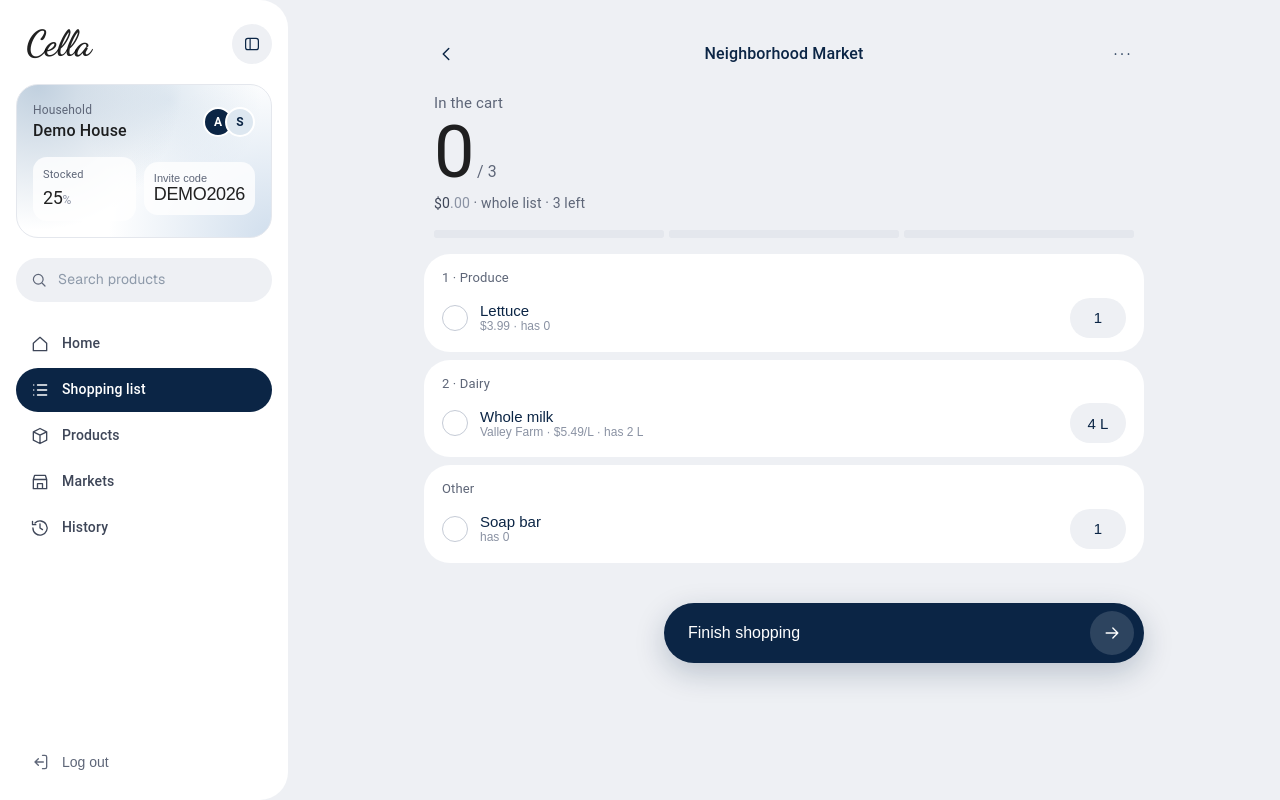
Test: Shopping list in the store › splits the route and shows only my part
Click the button named "More options" at (1122, 54), box [1100,32,1144,76]
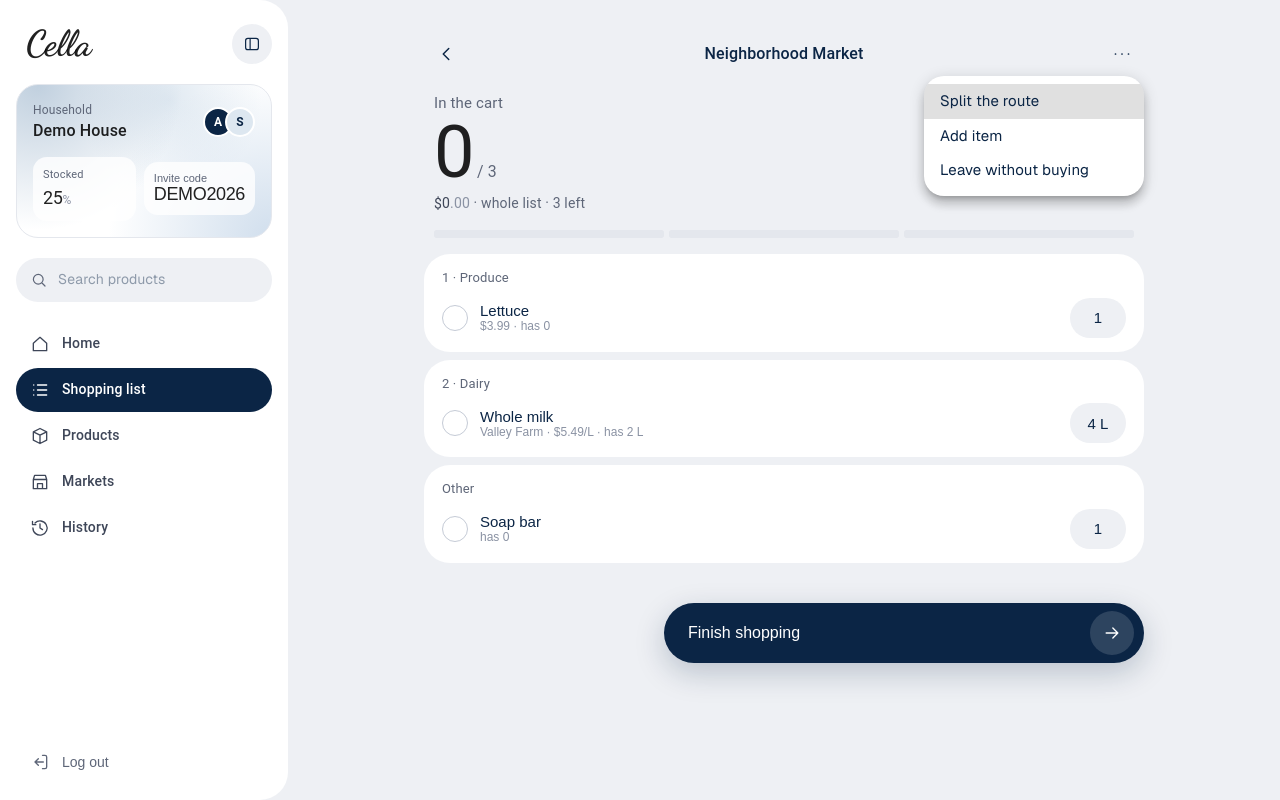
Click the menu item "Split the route" at (1034, 101), box [924,84,1144,118]
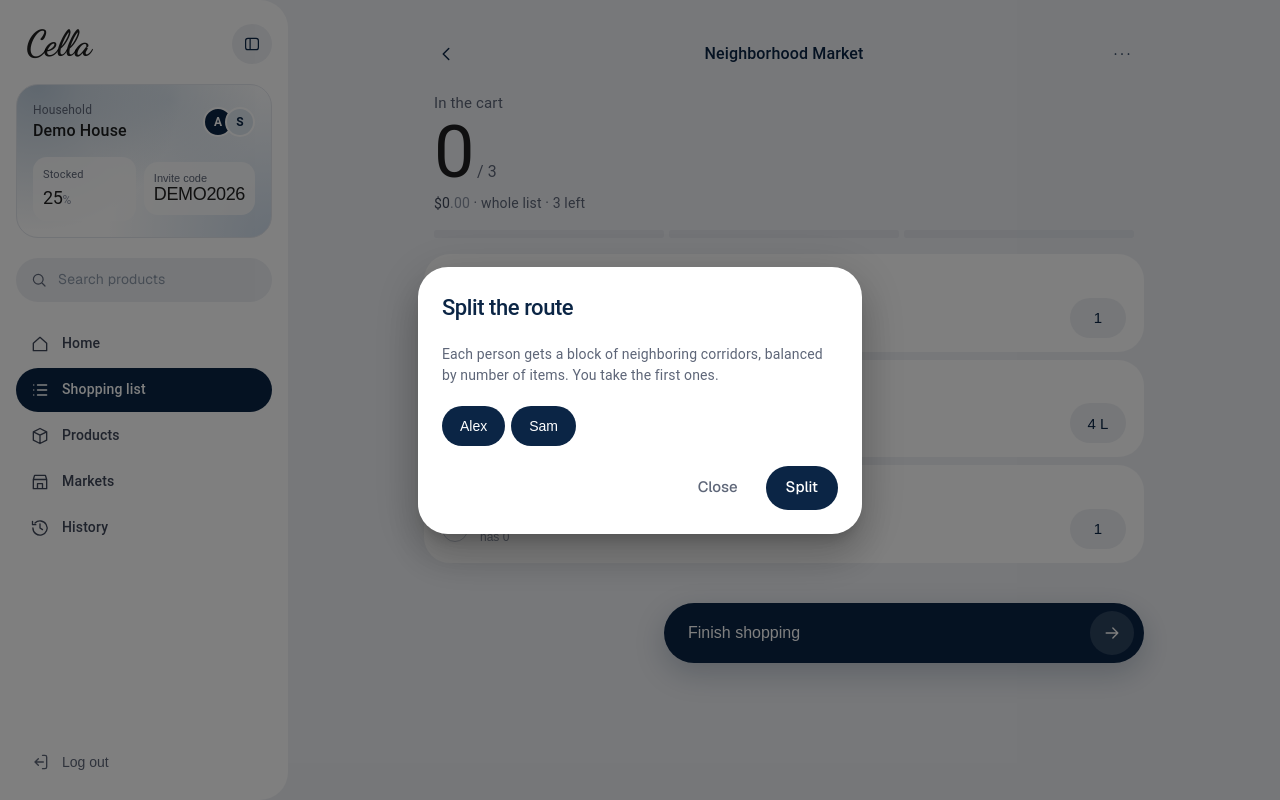
Click the button "Split" at (802, 488), box [766,466,838,510]
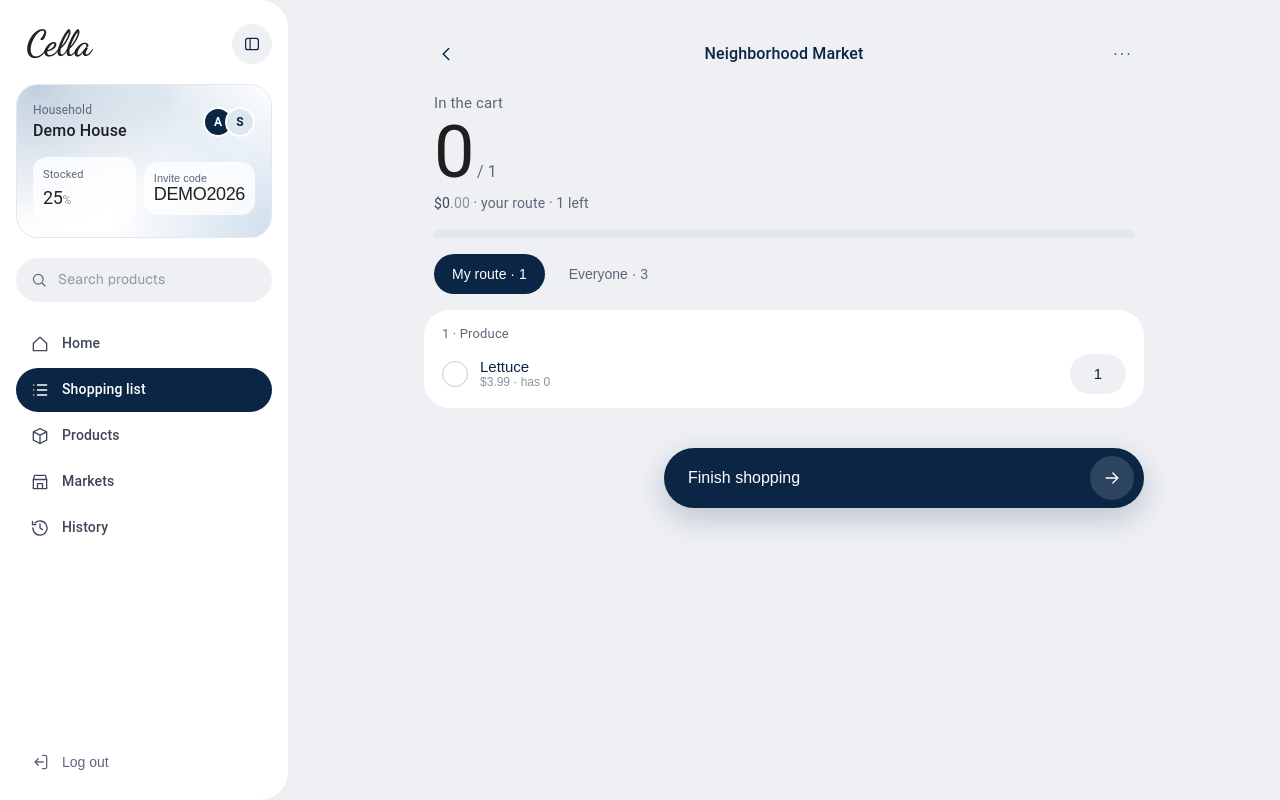
Expected: the checkbox labelled "Lettuce" is shown, [442,346,1062,402]
Result: the checkbox labelled "Whole milk" is gone
Click the tab "Everyone · 3" at (608, 274), box [551,254,666,294]
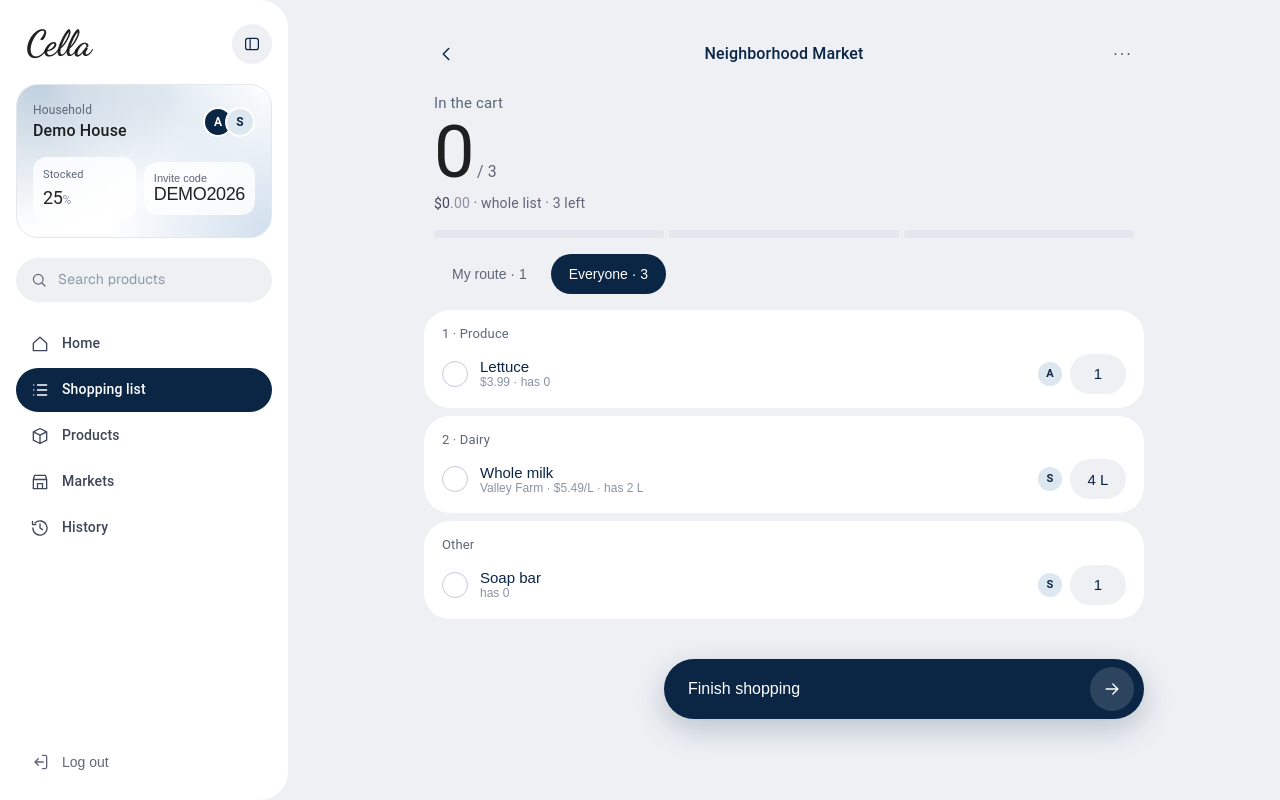
Result: the checkbox labelled "Whole milk" is shown at [442,451,1030,507]
Result: the number of elements named "Sam's route" is 2 at [1038,467,1062,491]; [1038,573,1062,597]
